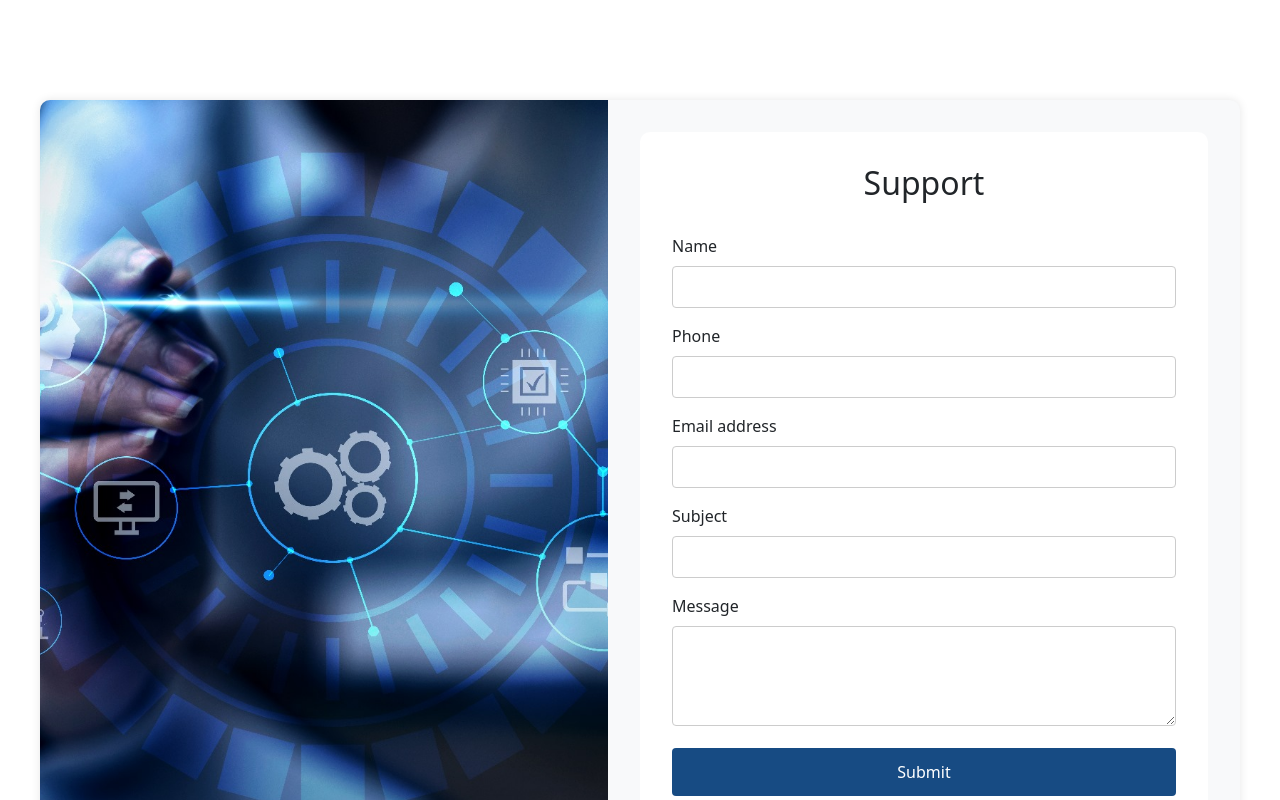
SupportPage Component › displays an error message on API failure
The width and height of the screenshot is (1280, 800).
// Fill out the form
In the field labelled "Name": x=924, y=287 [672, 266, 1176, 308], type "John Doe"
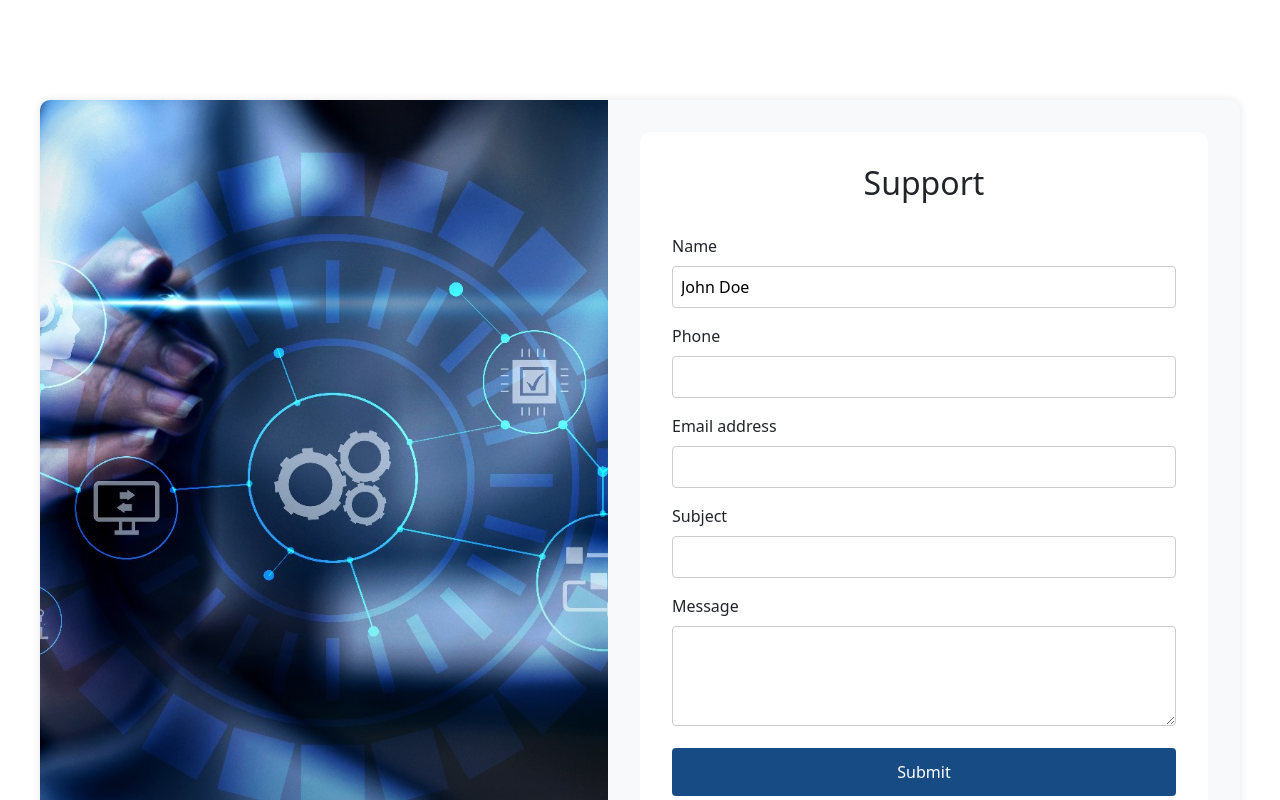
In the field labelled "Phone": x=924, y=377 [672, 356, 1176, 398], type "1234567890"
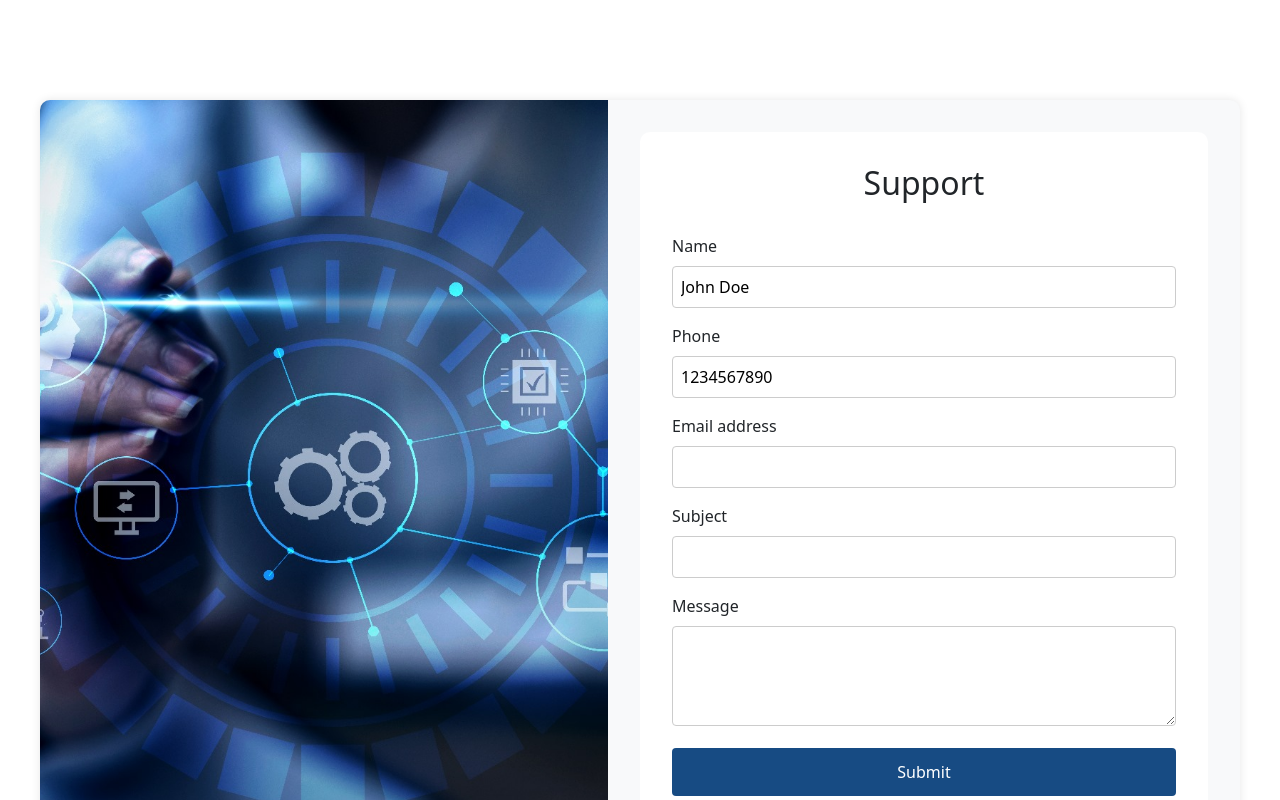
In the field labelled "Email address": x=924, y=467 [672, 446, 1176, 488], type "john.doe@example.com"
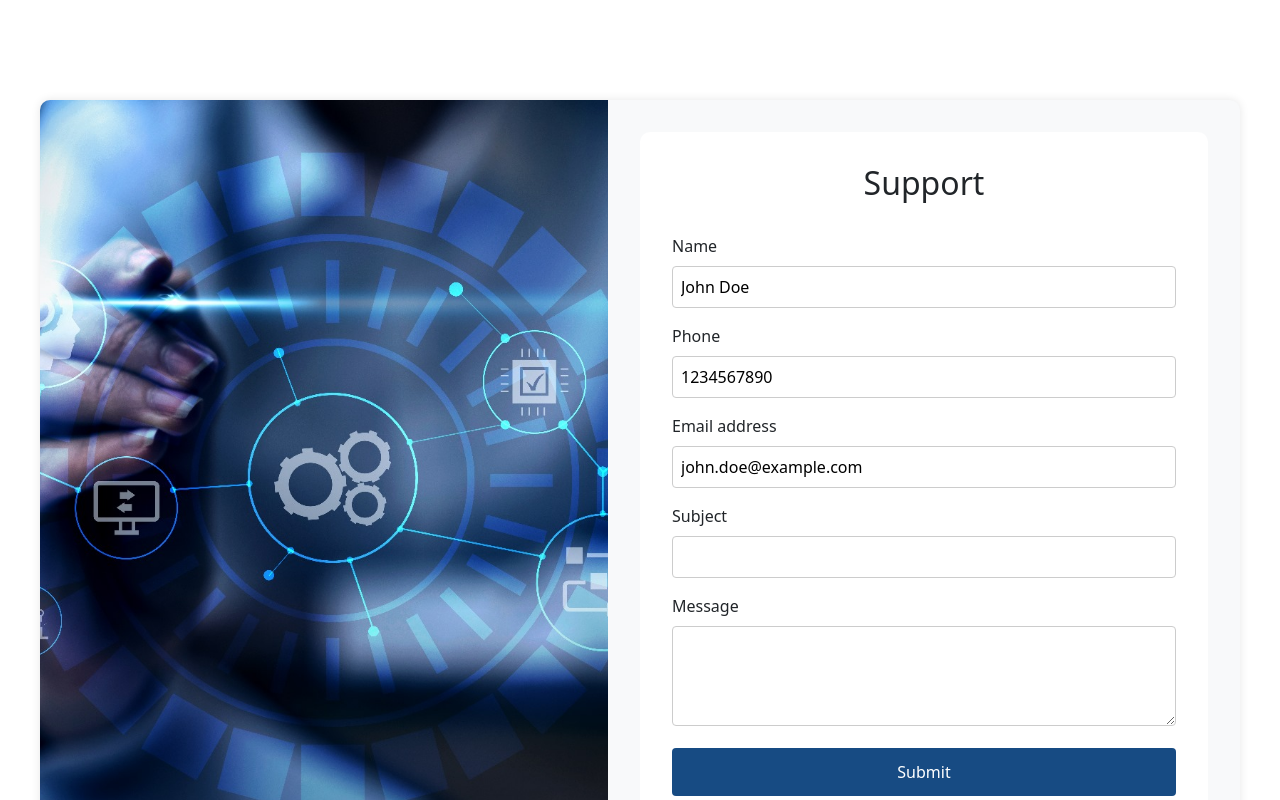
In the field labelled "Subject": x=924, y=557 [672, 536, 1176, 578], type "Test Subject"
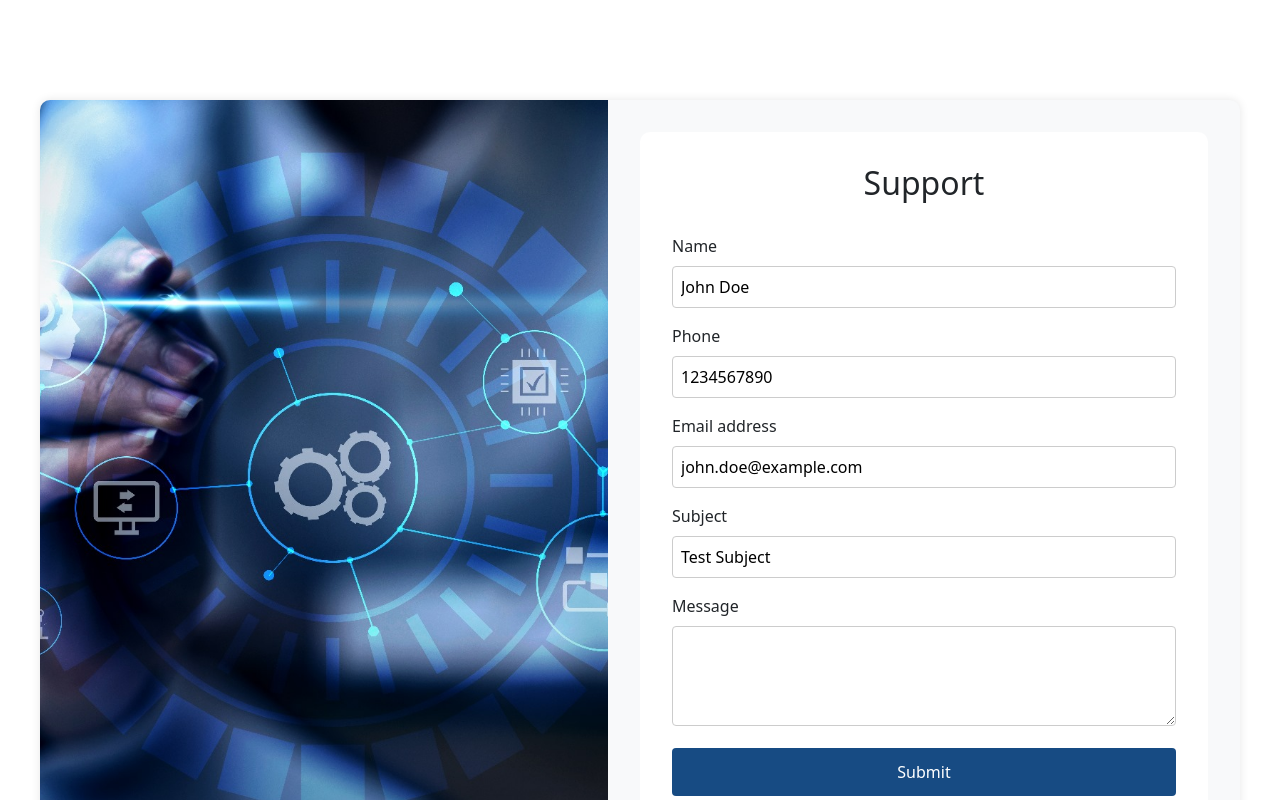
In the text box labelled "Message": x=924, y=676 [672, 626, 1176, 726], type "Test Message"
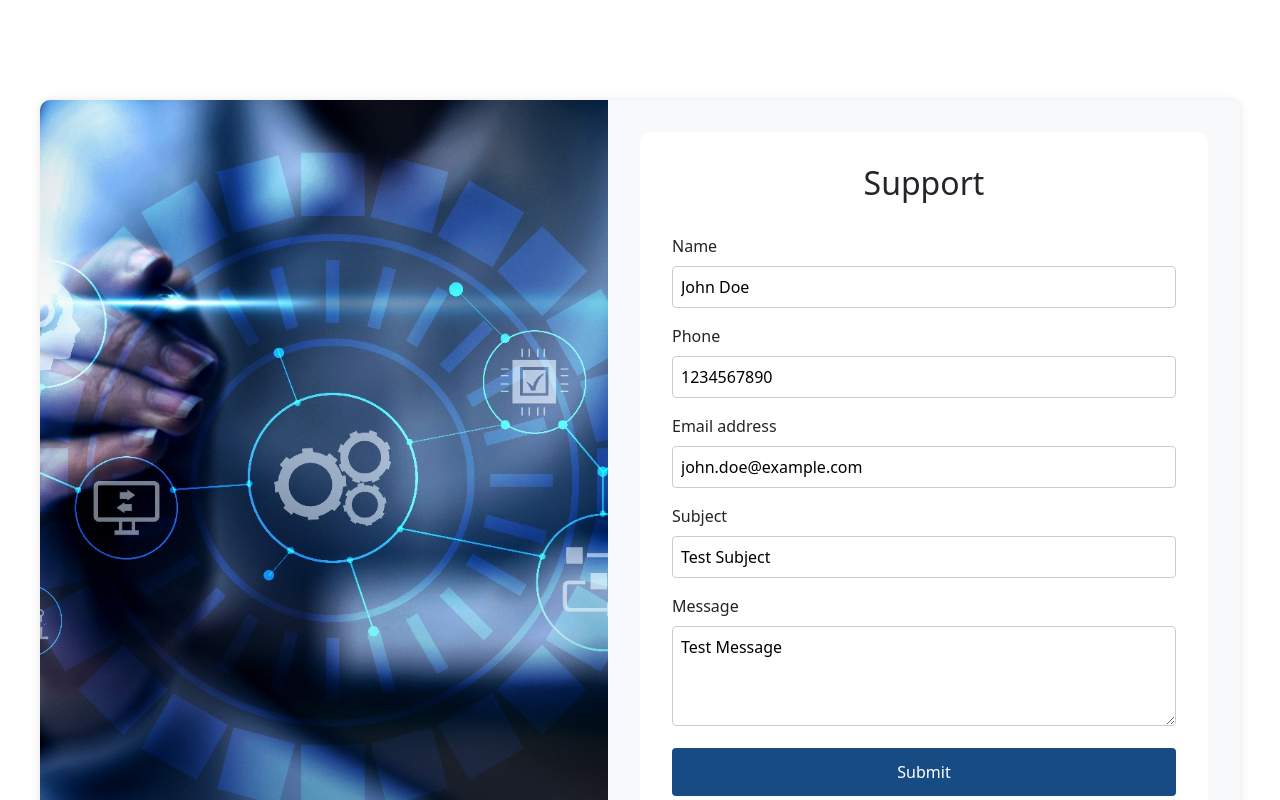
// Submit the form
Click the button "Submit": x=924, y=772 [672, 748, 1176, 796]
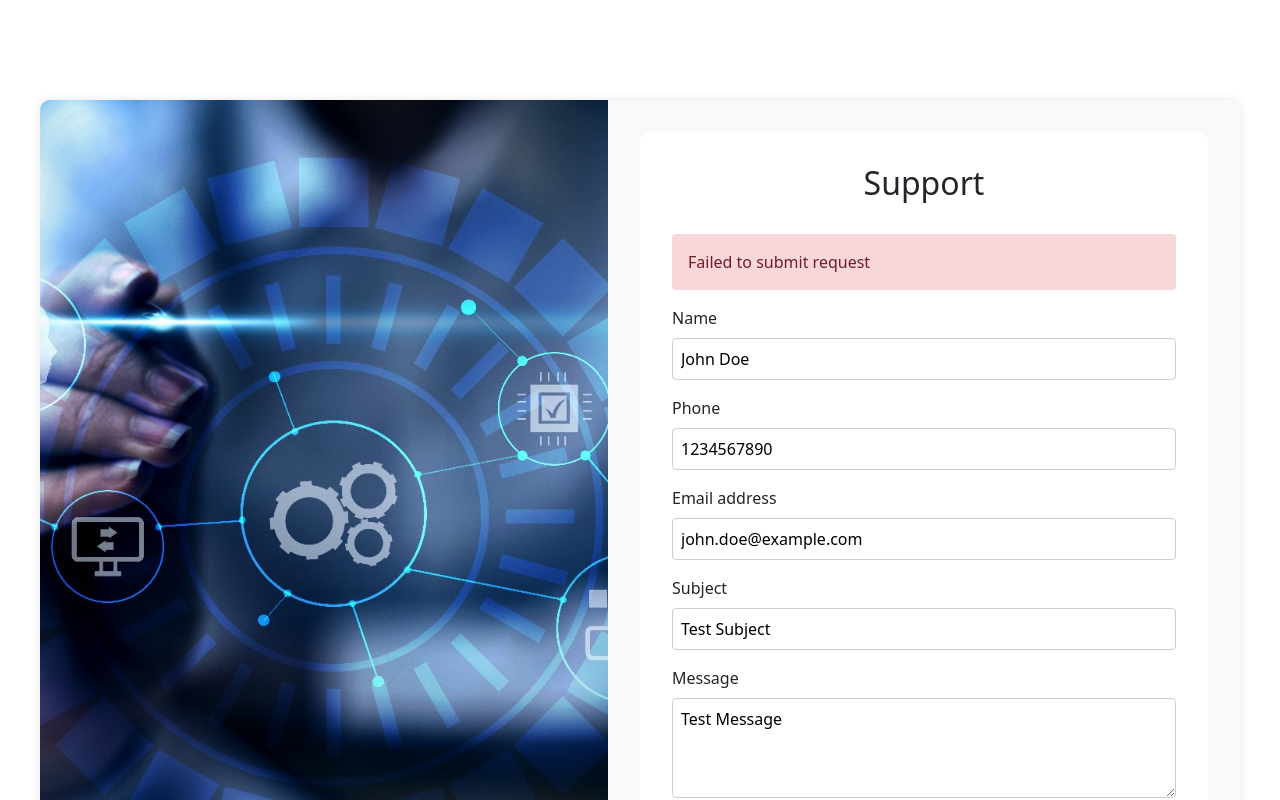
expect the text "Failed to submit request" is shown: met, box [672, 234, 1176, 290]
